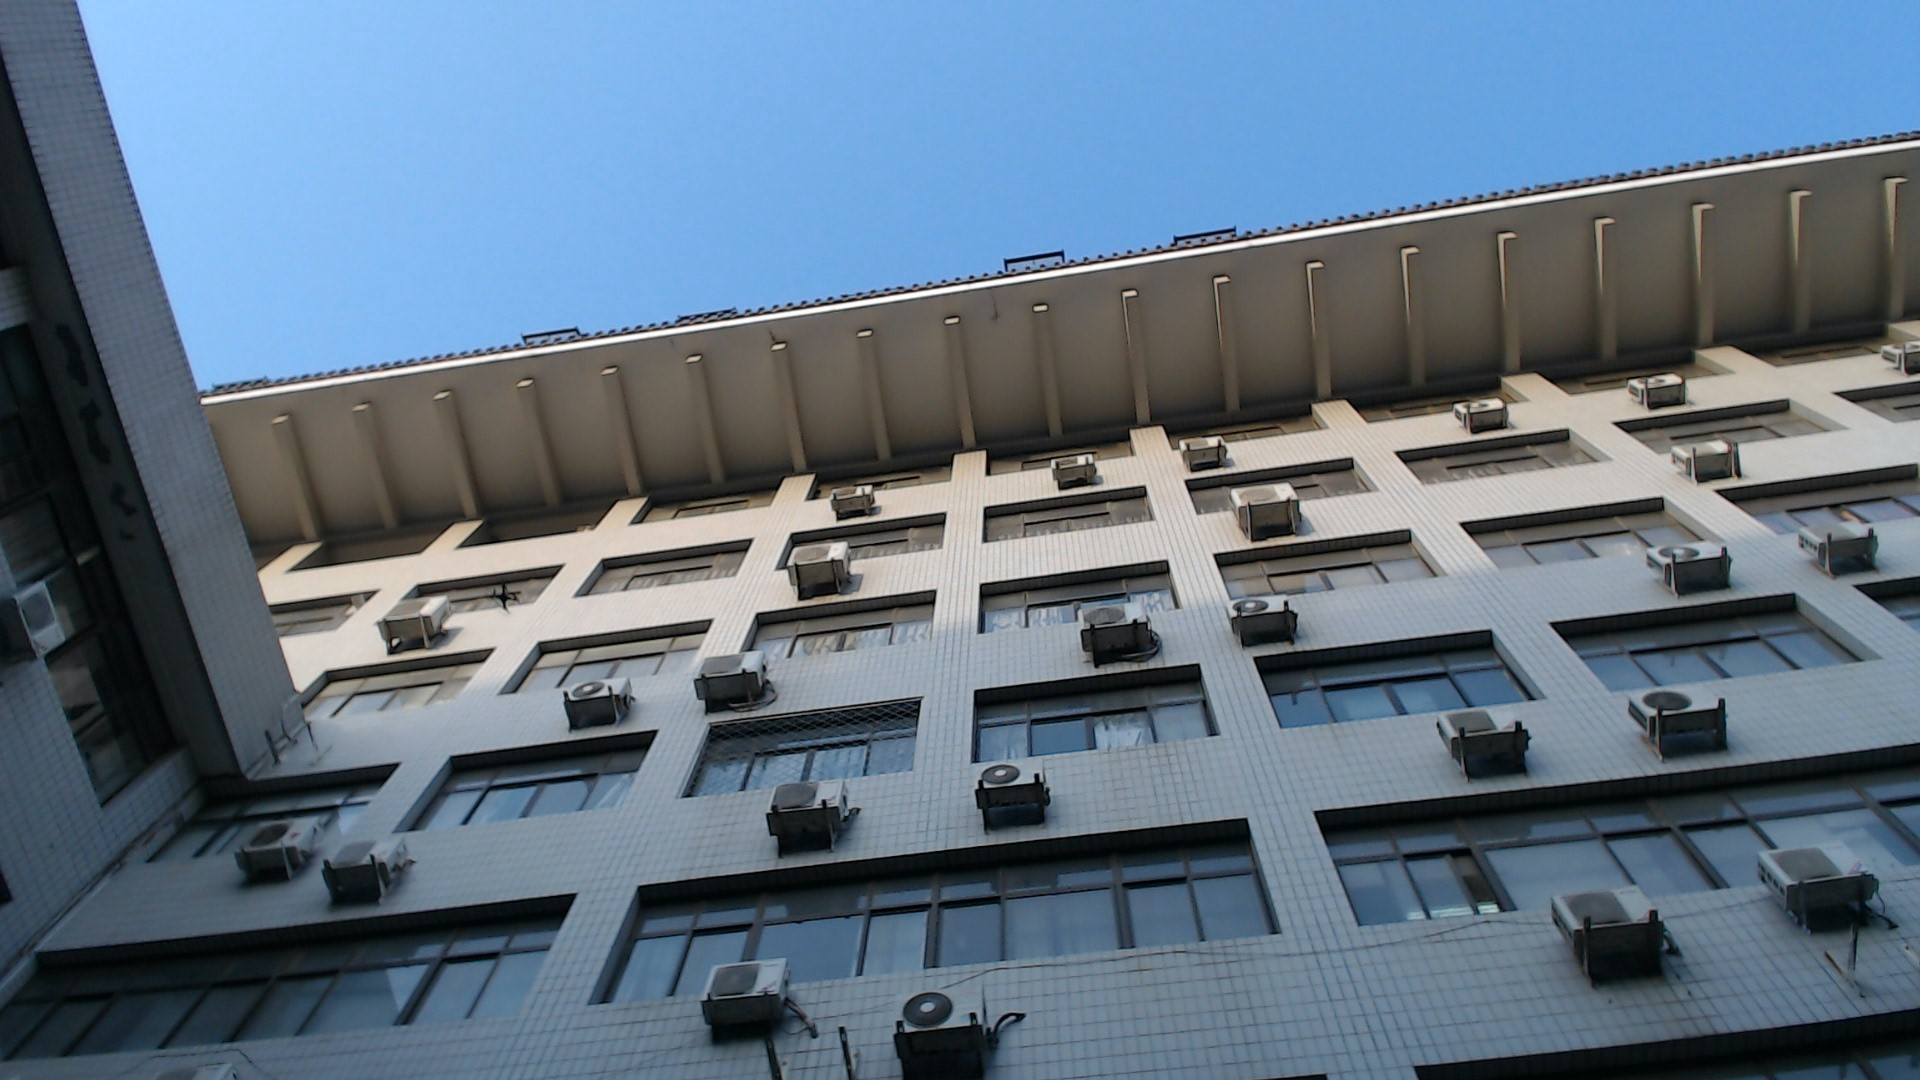drone: (465, 571, 546, 626)
